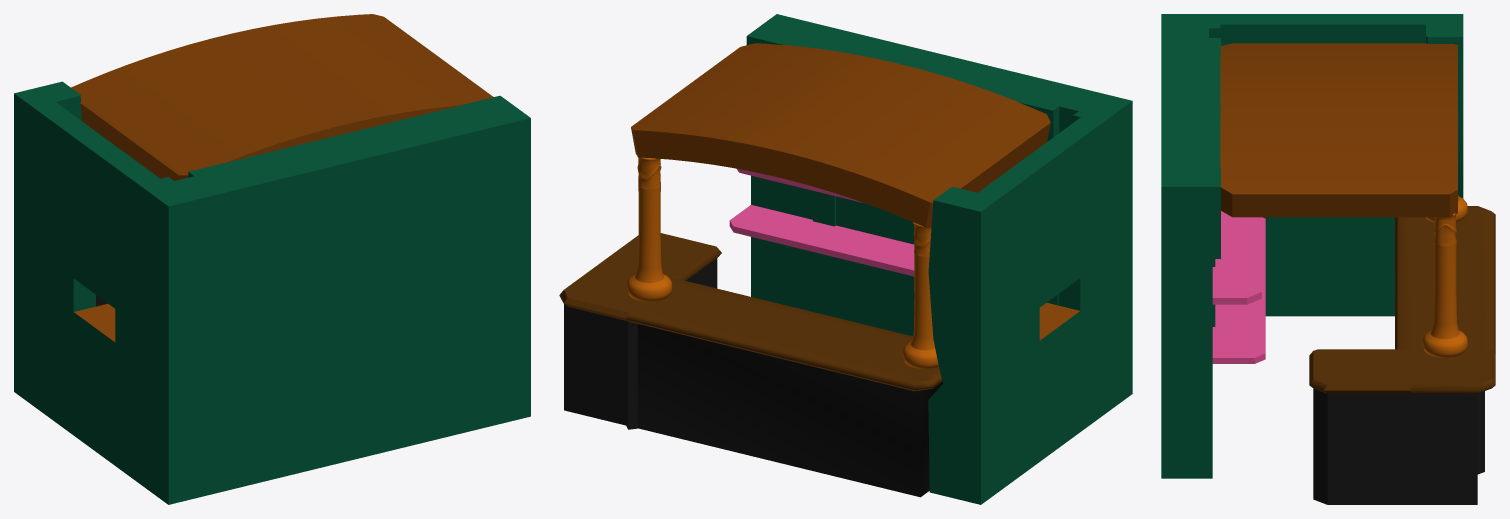
Rendered from newBarScene.fbx.
3 renders of one model, left to right at view 1: azimuth 30°, elevation 25°; view 2: azimuth 150°, elevation 25°; view 3: azimuth 270°, elevation 25°, orthographic. The views are drawn at different scales.
Parts seen in each view (by area): view 1: pCylinder3; view 2: pCylinder3; view 3: pCylinder3.
Part boxes in pixels (<box>): pCylinder3: <box>14,14,530,504</box>; pCylinder3: <box>559,14,1132,504</box>; pCylinder3: <box>1161,14,1495,504</box>.
Bounding box in the file's own units: 139 × 97.37 × 98.15.
